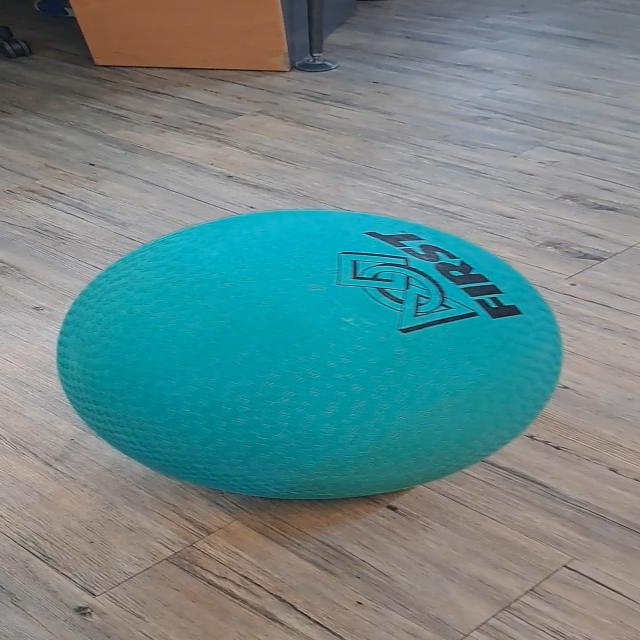ALGAE: (53, 207, 564, 501)
